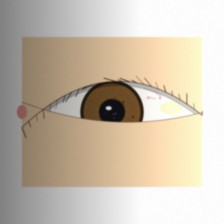pinguecula_lesion: (150, 91, 193, 125)
